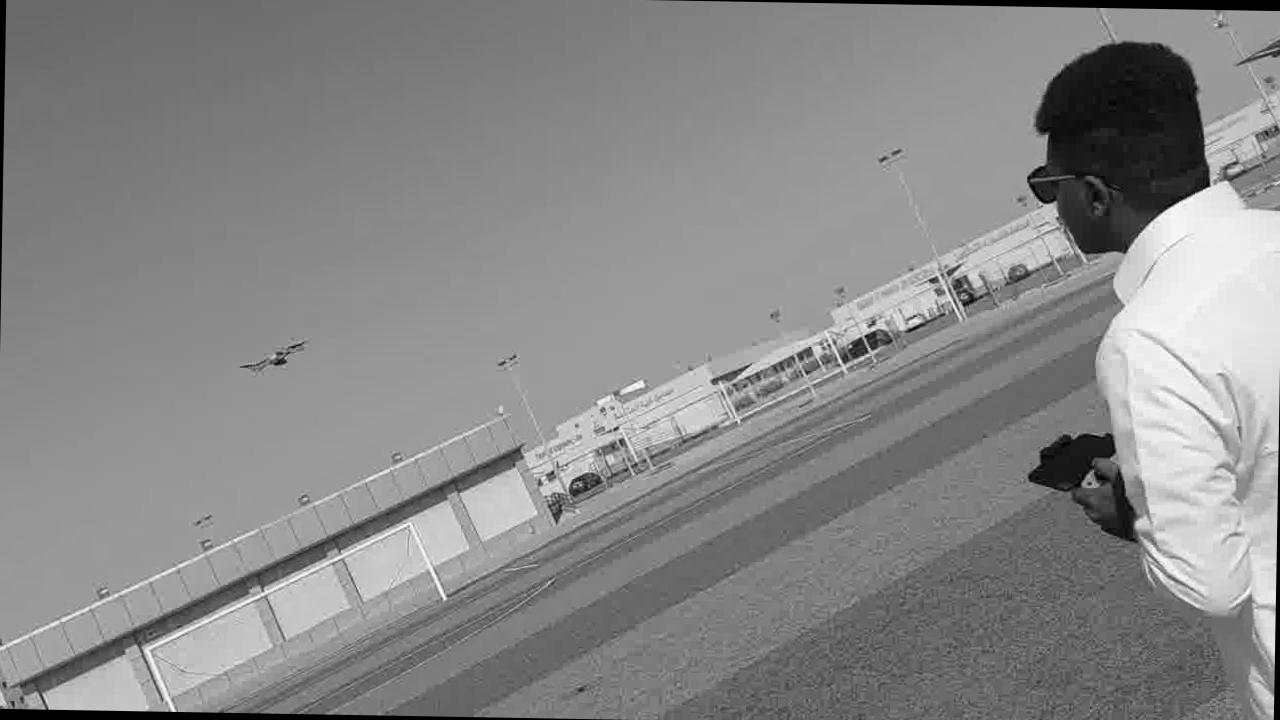drone: (232, 326, 312, 386)
